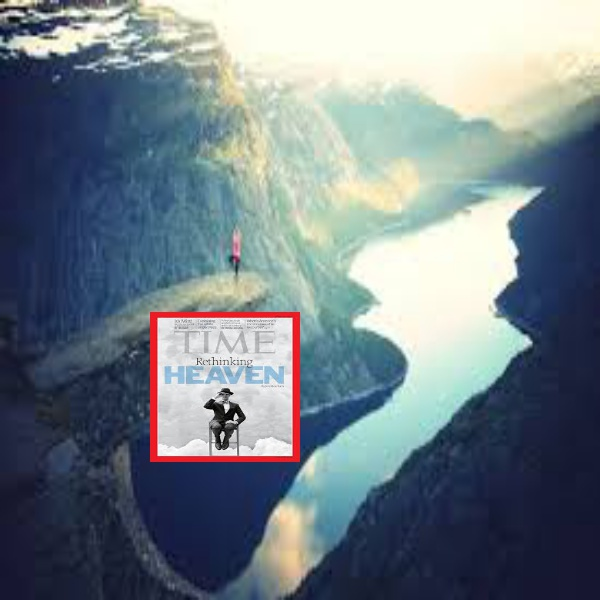time_cover: (141, 308, 310, 470)
